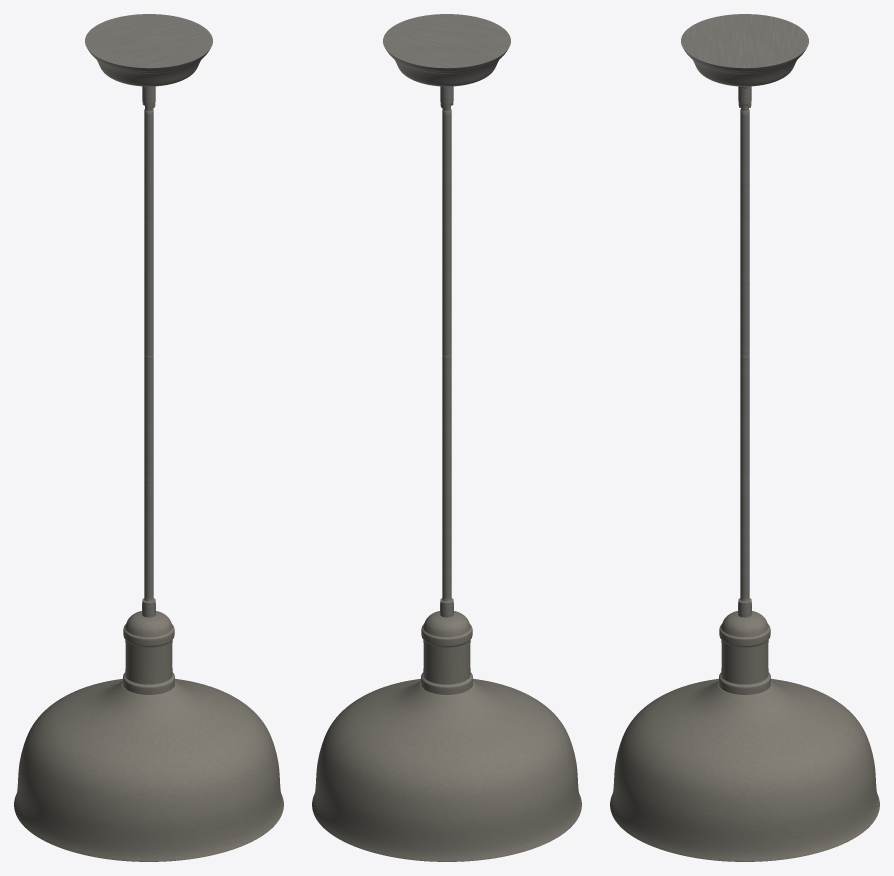
Rendered from B071HSMWGB.glb.
The picture shows the model from 3 angles, left to right: view 1: azimuth 30°, elevation 25°; view 2: azimuth 150°, elevation 25°; view 3: azimuth 270°, elevation 25°; orthographic projection.
Visible parts, largest first — view 1: "$AJHEHIMMCLBAAAAAICBAAAAAAAAADKPDBKGD"; view 2: "$AJHEHIMMCLBAAAAAICBAAAAAAAAADKPDBKGD"; view 3: "$AJHEHIMMCLBAAAAAICBAAAAAAAAADKPDBKGD".
Part boxes in pixels (<box>): "$AJHEHIMMCLBAAAAAICBAAAAAAAAADKPDBKGD": <box>14,14,283,861</box>; "$AJHEHIMMCLBAAAAAICBAAAAAAAAADKPDBKGD": <box>312,14,581,861</box>; "$AJHEHIMMCLBAAAAAICBAAAAAAAAADKPDBKGD": <box>610,14,879,861</box>.
Size of the model in its own units: 0.2993 by 0.9351 by 0.2993.
1 material, 1 textured.
